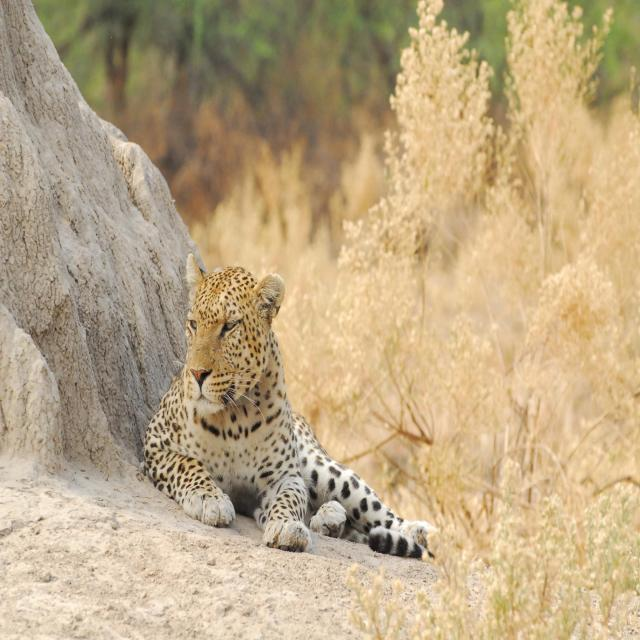Leopard: (133, 248, 439, 572)
